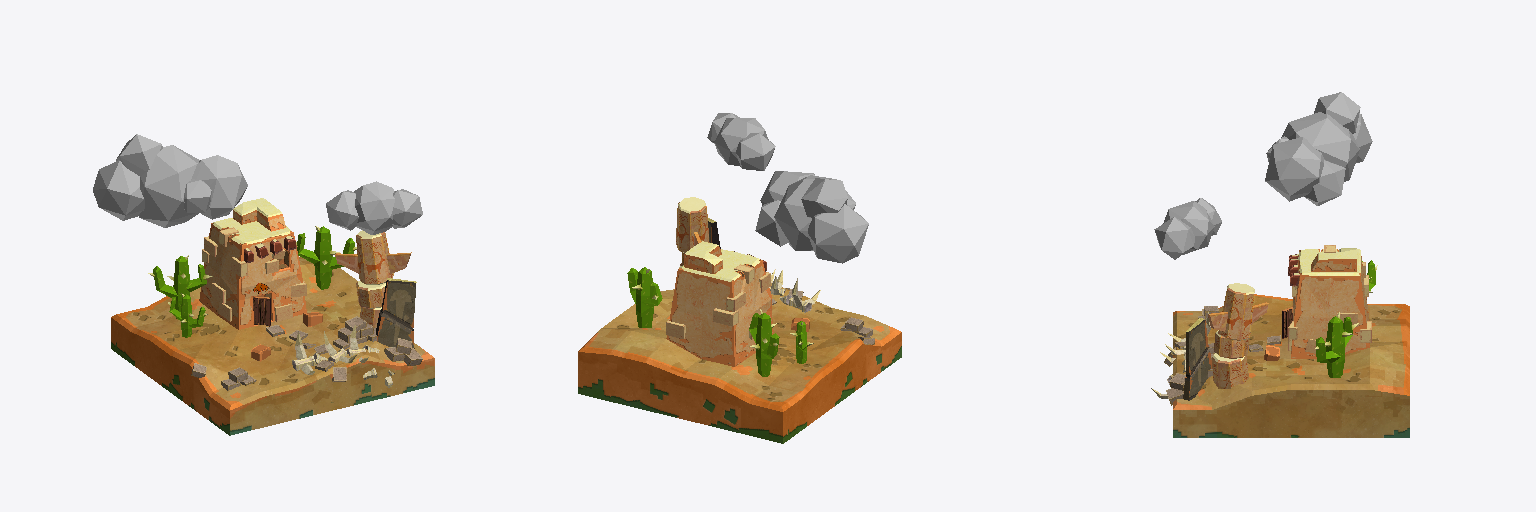
3 views of the same model, side by side, from view 1: azimuth 30°, elevation 25°; view 2: azimuth 150°, elevation 25°; view 3: azimuth 270°, elevation 25° (orthographic).
Parts seen in each view (by area): view 1: obj3, obj58, obj44, obj57, obj49, obj48, obj4, obj6, obj5, obj50; view 2: obj3, obj44, obj58, obj57, obj49, obj4, obj6; view 3: obj3, obj58, obj44, obj57, obj49, obj48, obj4, obj54, obj50.
Boxes of the visible parts, x1,y1,x2,y2 form: obj3: [111, 257, 434, 435]; obj58: [93, 134, 247, 227]; obj44: [199, 198, 306, 329]; obj57: [326, 181, 422, 234]; obj49: [335, 230, 411, 284]; obj48: [376, 278, 416, 348]; obj4: [296, 226, 356, 289]; obj6: [148, 255, 212, 318]; obj5: [168, 293, 207, 337]; obj50: [356, 281, 385, 308]; obj3: [578, 283, 901, 443]; obj44: [666, 241, 773, 366]; obj58: [755, 171, 868, 263]; obj57: [707, 113, 775, 170]; obj49: [676, 197, 709, 252]; obj4: [627, 267, 662, 327]; obj6: [749, 309, 779, 376]; obj3: [1173, 294, 1409, 437]; obj58: [1265, 92, 1372, 205]; obj44: [1291, 248, 1369, 358]; obj57: [1154, 198, 1221, 259]; obj49: [1208, 283, 1268, 340]; obj48: [1183, 318, 1211, 400]; obj4: [1315, 312, 1358, 377]; obj54: [1212, 353, 1248, 388]; obj50: [1214, 330, 1249, 358].
Bounding box in the file's own units: 2.98 × 2.75 × 2.67.
Materials: 5 (4 with a texture image).